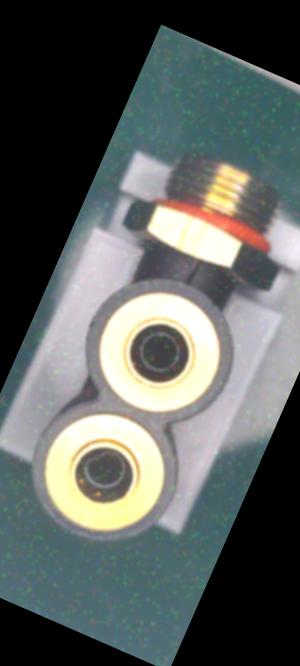craze: (179, 252, 205, 291)
off-centered: (73, 437, 134, 502)
